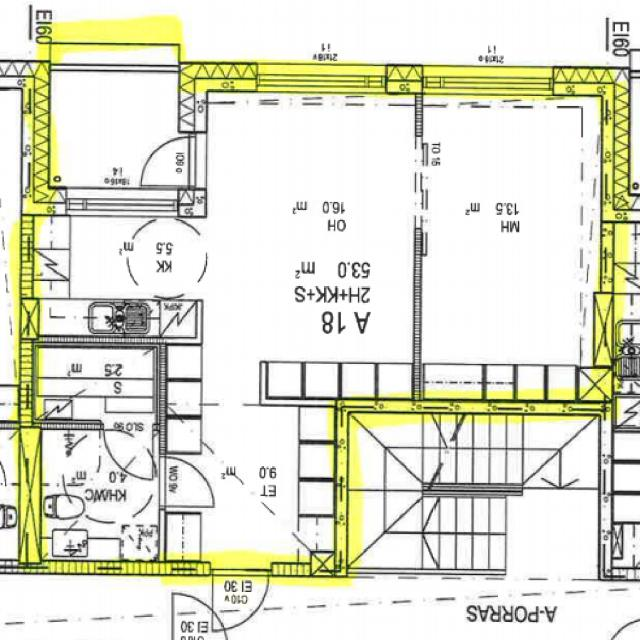door: (212, 567, 268, 633), (140, 136, 207, 186), (104, 422, 152, 478), (158, 458, 214, 506)
